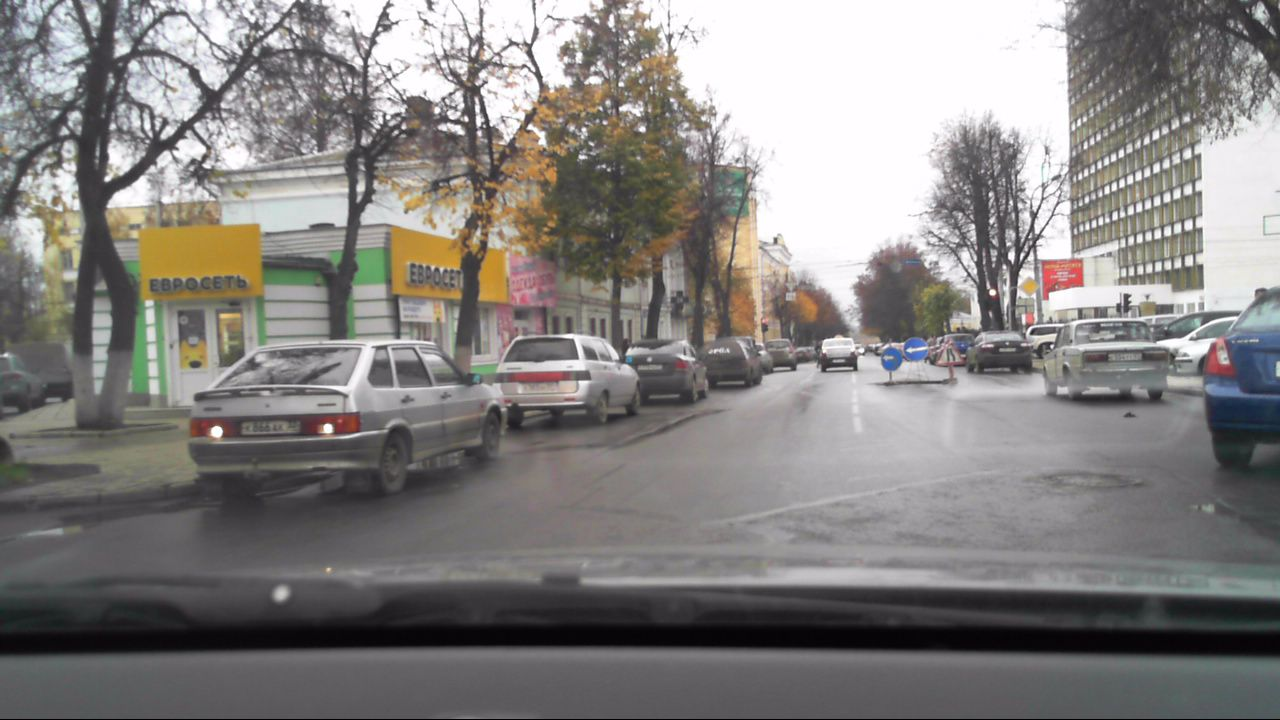Turn Left: (903, 336, 928, 361)
